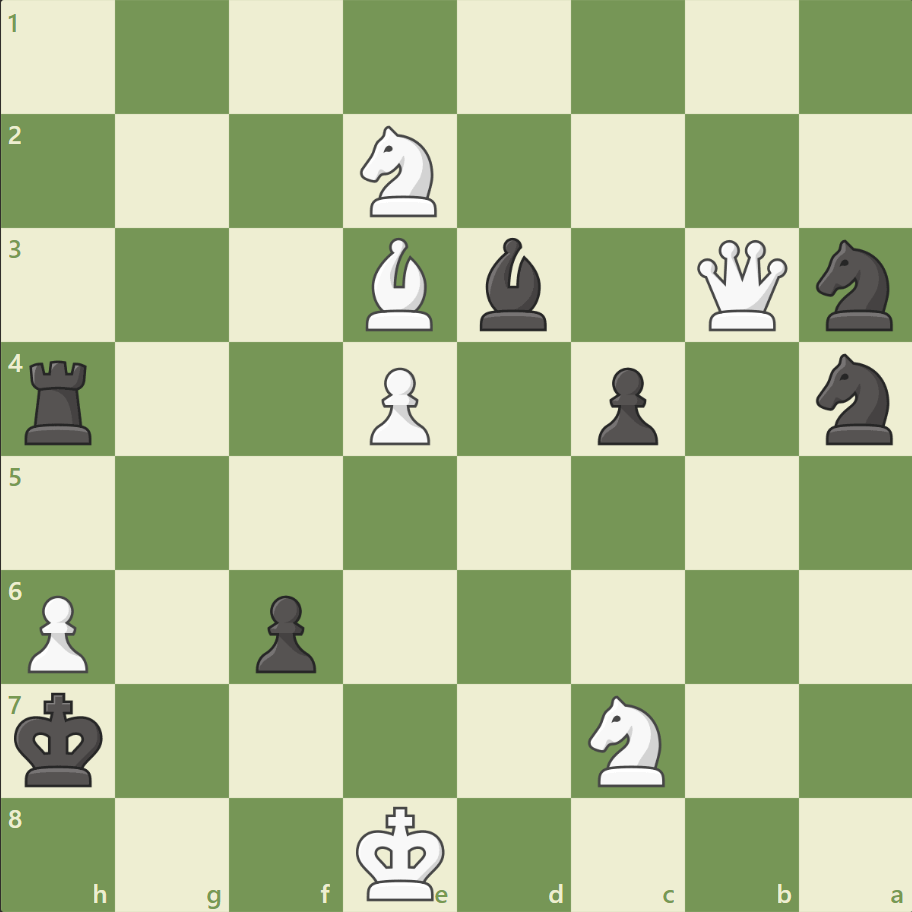B: (358, 233, 442, 336)
K: (351, 798, 451, 906)
N: (351, 121, 449, 223), (579, 688, 676, 791)
P: (20, 586, 95, 677), (361, 359, 435, 450)
Q: (691, 236, 790, 335)
b: (471, 233, 555, 336)
k: (11, 685, 111, 793)
n: (806, 234, 903, 337), (806, 348, 903, 450)
p: (247, 586, 322, 677), (588, 359, 662, 450)
r: (19, 352, 102, 449)
